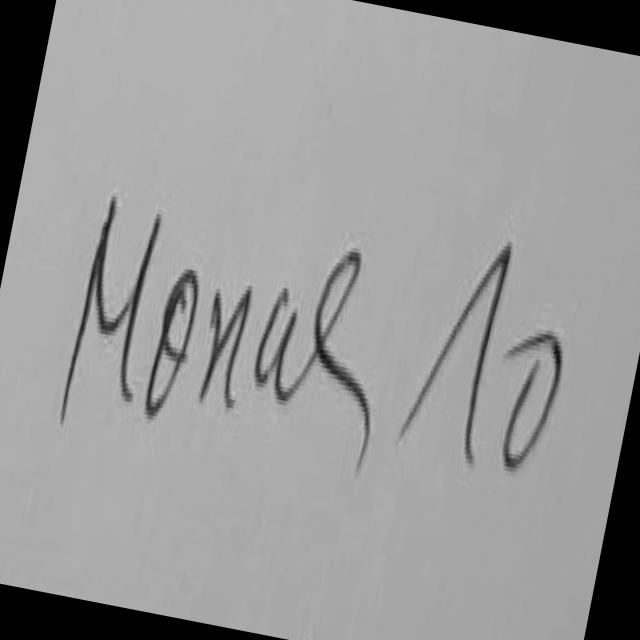0: (505, 346, 562, 467)
1: (464, 242, 510, 465)
M: (63, 198, 161, 423)
a: (255, 289, 297, 399)
n: (200, 289, 252, 408)
o: (146, 271, 198, 414)
s: (289, 249, 372, 467)
